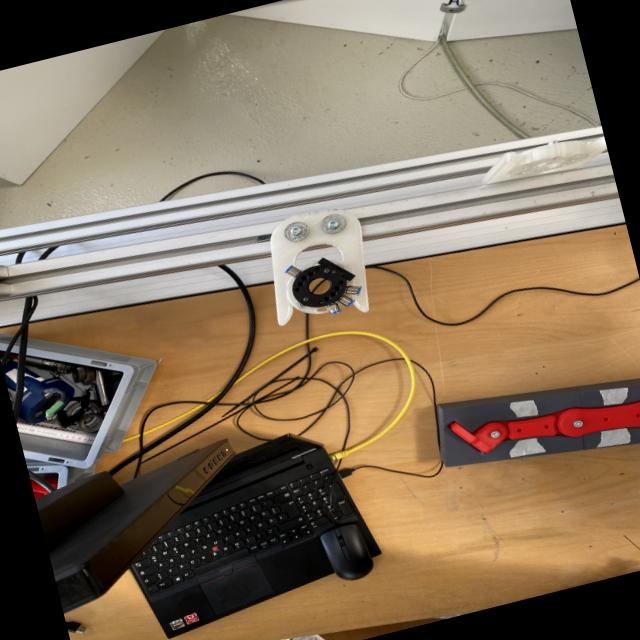Hex Socket Allen: (288, 224, 302, 236), (326, 218, 340, 230), (572, 418, 584, 428), (490, 429, 501, 439)
